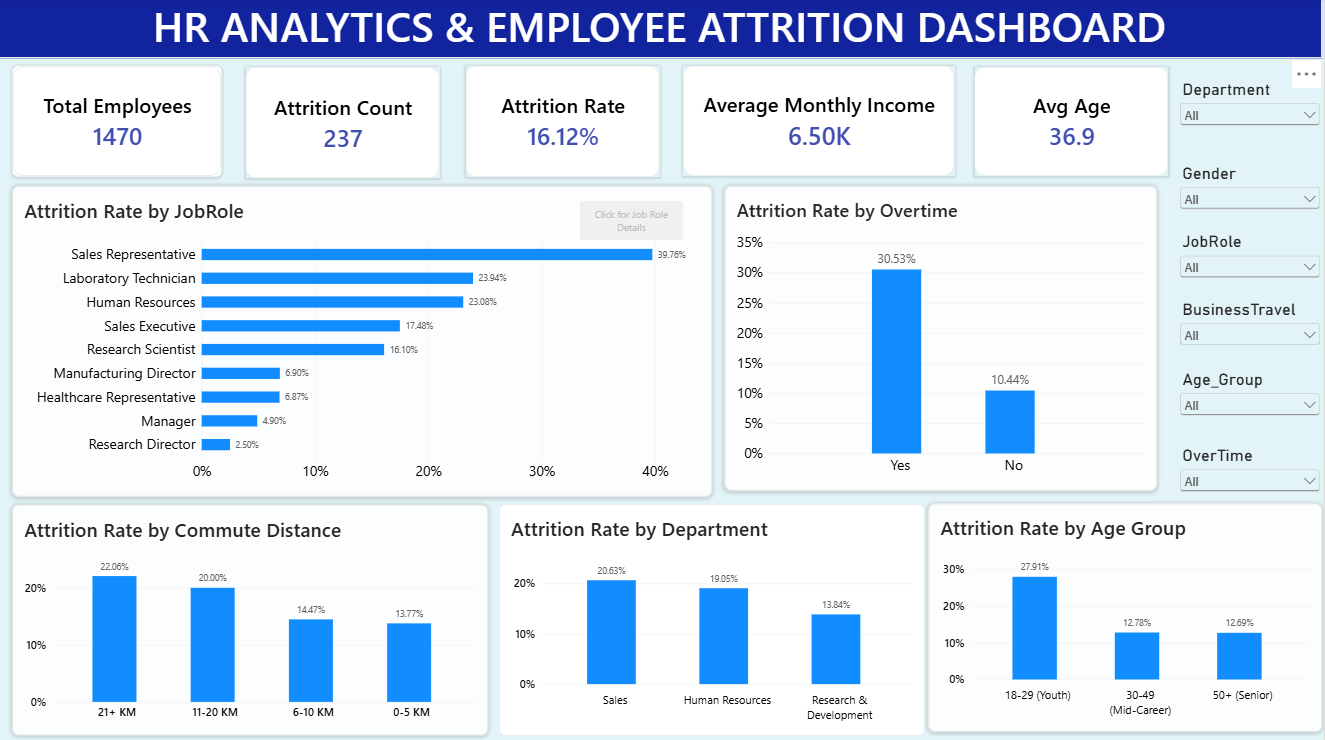

The page's visual inventory and layout, read from the dashboard file:
{"tool":"powerbi","page":{"name":"HR Attrition Overview","canvas":[1920,1080],"ordinal":0},"visuals":[{"type":"cardVisual","fields":{"Data":["cleaned_hr_analytics.Attrition Rate"]},"box":[678.6,99.5,280.5,161.1],"z":0},{"type":"cardVisual","fields":{"Data":["cleaned_hr_analytics.Attrition_Count"]},"box":[360.1,101.3,280.5,161.1],"z":1000},{"type":"cardVisual","fields":{"Data":["cleaned_hr_analytics.Average Monthly Income"]},"box":[993.5,99.5,392.7,159.3],"z":2000},{"type":"cardVisual","fields":{"Data":["cleaned_hr_analytics.Avg Age"]},"box":[1415.2,101.3,280.5,157.4],"z":3000},{"type":"clusteredColumnChart","title":"Attrition Rate by Overtime","fields":{"Category":["cleaned_hr_analytics.OverTime"],"Y":["cleaned_hr_analytics.Attrition Rate"]},"box":[1053.2,273.3,626.1,441.6],"z":4000},{"type":"clusteredBarChart","title":"Attrition Rate by JobRole","fields":{"Category":["cleaned_hr_analytics.JobRole"],"Y":["cleaned_hr_analytics.Attrition Rate"]},"box":[21.7,273.3,1013.4,450.6],"z":5000},{"type":"clusteredColumnChart","title":"Attrition Rate by Age Group","fields":{"Category":["cleaned_hr_analytics.Age_Group"],"Y":["cleaned_hr_analytics.Attrition Rate"]},"box":[1348.2,732.9,570,331.2],"z":6000},{"type":"clusteredColumnChart","title":"Attrition Rate by Commute Distance","fields":{"Category":["cleaned_hr_analytics.Distance Group"],"Y":["cleaned_hr_analytics.Attrition Rate"]},"box":[21.7,734.7,689.5,334.8],"z":7000},{"type":"slicer","fields":{"Values":["cleaned_hr_analytics.Department"]},"box":[1708.3,119.4,211.7,81.4],"z":8000},{"type":"slicer","fields":{"Values":["cleaned_hr_analytics.JobRole"]},"box":[1708.3,340.2,211.7,67],"z":9000},{"type":"slicer","fields":{"Values":["cleaned_hr_analytics.OverTime"]},"box":[1708.3,649.7,211.7,74.2],"z":10000},{"type":"slicer","fields":{"Values":["cleaned_hr_analytics.Gender"]},"box":[1708.3,240.7,211.7,83.2],"z":11000},{"type":"slicer","fields":{"Values":["cleaned_hr_analytics.BusinessTravel"]},"box":[1708.3,437.9,211.7,65.1],"z":12000},{"type":"slicer","fields":{"Values":["cleaned_hr_analytics.Age_Group"]},"box":[1708.3,539.3,211.7,74.2],"z":13000},{"type":"textbox","title":"HR ANALYTICS & EMPLOYEE ATTRITION DASHBOARD","box":[0,0,1918.2,88.7],"z":14000},{"type":"cardVisual","fields":{"Data":["cleaned_hr_analytics.Total Employees"]},"box":[21.7,99.5,304,161.1],"z":15000},{"type":"actionButton","box":[843.3,295,150.2,57.9],"z":16000},{"type":"clusteredColumnChart","title":" Attrition Rate by Department","fields":{"Category":["cleaned_hr_analytics.Department"],"Y":["cleaned_hr_analytics.Department Attrition Rate"]},"box":[727.5,734.7,615.3,334.8],"z":17000}]}

Visuals, with their boxes in screenshot pixels (x1, y1, x2, y2), scaled from the page's 1920x1080 canvas onto the 1325x740 screenshot:
cardVisual - cleaned_hr_analytics.Attrition Rate: (left=468, top=68, right=662, bottom=179)
cardVisual - cleaned_hr_analytics.Attrition_Count: (left=249, top=69, right=442, bottom=180)
cardVisual - cleaned_hr_analytics.Average Monthly Income: (left=686, top=68, right=957, bottom=177)
cardVisual - cleaned_hr_analytics.Avg Age: (left=977, top=69, right=1170, bottom=177)
"Attrition Rate by Overtime" clusteredColumnChart: (left=727, top=187, right=1159, bottom=490)
"Attrition Rate by JobRole" clusteredBarChart: (left=15, top=187, right=714, bottom=496)
"Attrition Rate by Age Group" clusteredColumnChart: (left=930, top=502, right=1324, bottom=729)
"Attrition Rate by Commute Distance" clusteredColumnChart: (left=15, top=503, right=491, bottom=733)
slicer - cleaned_hr_analytics.Department: (left=1179, top=82, right=1324, bottom=138)
slicer - cleaned_hr_analytics.JobRole: (left=1179, top=233, right=1324, bottom=279)
slicer - cleaned_hr_analytics.OverTime: (left=1179, top=445, right=1324, bottom=496)
slicer - cleaned_hr_analytics.Gender: (left=1179, top=165, right=1324, bottom=222)
slicer - cleaned_hr_analytics.BusinessTravel: (left=1179, top=300, right=1324, bottom=345)
slicer - cleaned_hr_analytics.Age_Group: (left=1179, top=370, right=1324, bottom=420)
"HR ANALYTICS & EMPLOYEE ATTRITION DASHBOARD" textbox: (left=0, top=0, right=1324, bottom=61)
cardVisual - cleaned_hr_analytics.Total Employees: (left=15, top=68, right=225, bottom=179)
actionButton: (left=582, top=202, right=686, bottom=242)
" Attrition Rate by Department" clusteredColumnChart: (left=502, top=503, right=927, bottom=733)
